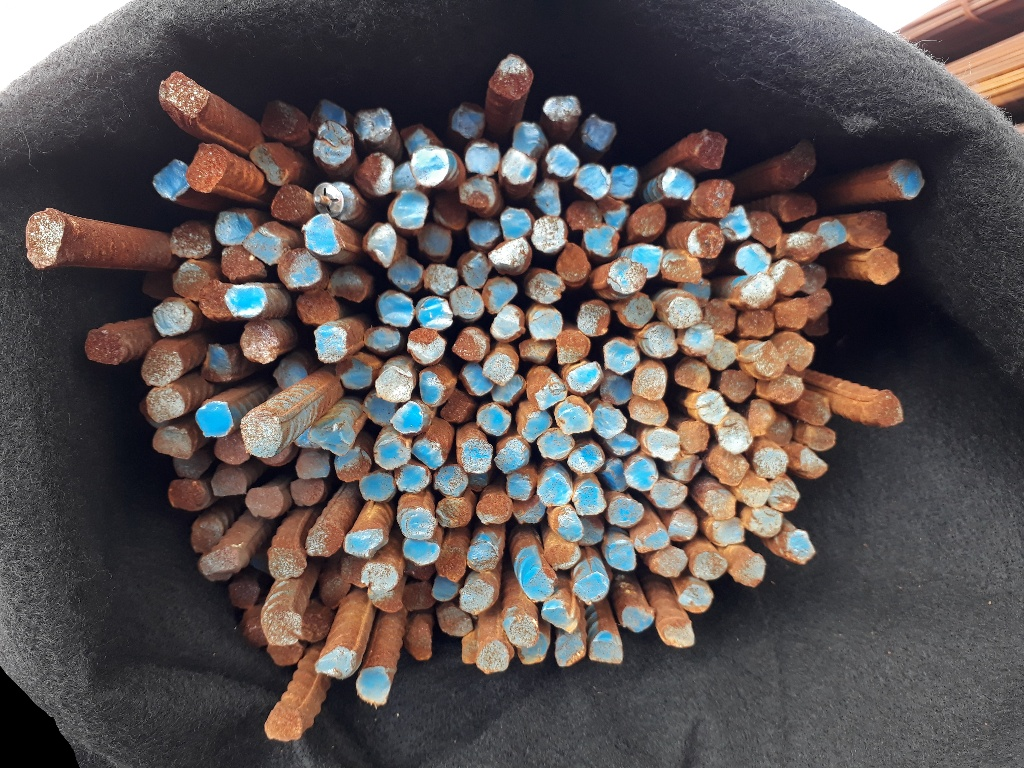dipstick: (23, 211, 65, 269), (259, 100, 310, 145), (166, 72, 209, 125), (486, 54, 533, 101), (312, 119, 355, 168), (187, 142, 228, 193), (249, 142, 294, 187), (351, 152, 395, 197), (703, 445, 750, 486), (278, 248, 323, 290), (240, 413, 282, 458), (888, 154, 927, 199), (327, 264, 369, 305), (778, 142, 818, 185), (389, 188, 429, 231), (310, 418, 355, 455), (408, 147, 451, 185), (173, 258, 211, 301), (169, 221, 212, 259), (200, 544, 244, 581), (142, 347, 181, 388), (84, 328, 125, 367), (489, 238, 532, 275), (243, 228, 286, 265), (363, 223, 397, 269), (302, 216, 342, 255), (240, 322, 278, 363), (390, 161, 432, 198), (848, 212, 891, 248), (375, 364, 414, 403), (431, 192, 471, 230), (221, 245, 261, 283), (606, 259, 648, 295), (312, 320, 347, 363), (294, 292, 341, 324), (307, 98, 346, 136), (418, 370, 458, 407), (320, 180, 357, 220), (264, 706, 304, 743), (153, 299, 193, 336), (260, 609, 301, 645), (226, 283, 267, 319), (150, 426, 194, 459), (555, 244, 592, 283), (458, 176, 497, 213), (487, 305, 526, 342), (524, 267, 564, 303), (614, 295, 656, 329), (500, 148, 538, 185), (270, 186, 309, 222), (196, 402, 235, 438), (209, 465, 249, 500), (741, 504, 783, 537), (299, 601, 331, 644), (530, 217, 567, 254), (481, 276, 518, 313), (452, 326, 489, 363), (867, 389, 903, 427), (739, 273, 777, 309), (408, 329, 446, 365), (377, 291, 415, 327), (779, 332, 814, 371), (463, 142, 502, 177), (356, 667, 391, 706), (304, 523, 343, 558), (145, 386, 184, 421), (343, 528, 387, 559), (631, 359, 665, 399), (693, 129, 726, 170), (552, 401, 593, 434), (315, 647, 357, 679), (734, 242, 771, 278), (355, 110, 392, 146), (768, 260, 806, 295), (697, 182, 735, 217), (731, 472, 770, 506), (201, 279, 235, 318), (735, 307, 776, 339), (169, 479, 211, 510), (602, 339, 638, 375), (703, 335, 738, 372), (415, 223, 452, 258), (540, 599, 578, 633), (334, 448, 372, 482), (200, 343, 233, 382), (240, 606, 272, 646), (647, 545, 688, 576), (548, 506, 583, 542), (449, 286, 485, 321), (716, 419, 753, 453), (386, 258, 423, 292), (439, 389, 476, 423), (768, 475, 801, 513), (686, 224, 724, 257), (213, 431, 251, 464), (244, 484, 283, 516), (775, 194, 818, 223), (165, 161, 196, 201), (406, 618, 434, 662), (459, 362, 494, 397), (643, 324, 679, 358), (502, 614, 538, 648), (575, 166, 611, 200), (417, 297, 453, 331), (362, 390, 396, 426), (316, 572, 350, 608), (658, 617, 695, 650), (422, 262, 459, 295), (494, 442, 532, 474), (437, 606, 475, 638), (335, 357, 373, 389), (717, 206, 752, 240), (189, 517, 224, 551), (750, 344, 786, 377), (786, 230, 822, 263), (580, 115, 616, 148), (484, 350, 517, 386), (476, 402, 512, 435), (458, 581, 494, 614), (374, 437, 410, 470), (583, 225, 620, 257), (437, 544, 469, 581), (358, 471, 395, 503), (675, 582, 713, 613), (628, 396, 670, 424), (774, 297, 808, 331), (625, 458, 659, 492), (572, 481, 606, 515), (477, 493, 511, 527), (460, 439, 493, 474), (389, 401, 424, 434), (747, 214, 783, 246), (567, 362, 603, 394), (451, 106, 487, 138), (394, 461, 430, 493), (719, 370, 756, 401), (459, 252, 490, 289), (269, 548, 306, 579), (752, 449, 790, 479), (673, 362, 711, 392), (627, 206, 665, 236), (537, 430, 575, 460), (361, 562, 399, 592), (867, 248, 901, 281), (646, 428, 680, 461), (524, 568, 557, 602), (511, 122, 545, 155), (514, 632, 549, 664), (606, 164, 638, 199), (434, 465, 469, 497), (274, 357, 309, 389), (574, 305, 610, 336), (368, 582, 404, 613), (289, 477, 325, 508), (398, 509, 435, 539), (747, 399, 776, 437), (540, 95, 579, 123), (677, 420, 709, 454), (575, 573, 609, 605), (226, 576, 260, 608), (785, 530, 816, 565), (661, 169, 696, 200), (592, 407, 627, 438), (608, 498, 644, 528), (474, 643, 510, 673), (511, 495, 547, 525), (767, 374, 805, 402), (665, 511, 698, 543), (557, 332, 590, 364), (546, 145, 579, 177), (528, 307, 561, 339), (599, 374, 633, 405), (596, 457, 627, 491), (401, 580, 435, 611), (737, 554, 767, 589), (491, 376, 526, 406), (545, 542, 581, 571), (566, 202, 602, 231), (662, 254, 702, 280), (651, 481, 689, 508), (566, 445, 604, 472), (696, 393, 728, 425), (532, 183, 564, 215), (803, 422, 836, 453), (500, 205, 531, 238), (411, 438, 444, 469), (466, 543, 500, 573), (295, 451, 329, 481), (532, 381, 567, 410), (365, 326, 400, 355), (813, 219, 849, 247), (691, 550, 727, 578), (588, 636, 624, 664), (435, 500, 471, 528), (665, 454, 702, 481), (664, 298, 701, 325), (703, 299, 734, 331), (606, 540, 638, 571), (340, 555, 371, 587), (711, 517, 744, 547), (401, 127, 434, 157), (402, 538, 440, 564), (537, 478, 571, 507), (171, 451, 210, 476), (555, 635, 586, 666), (630, 245, 662, 275), (267, 641, 305, 666), (798, 449, 829, 479), (226, 211, 253, 245), (467, 220, 502, 246), (622, 605, 654, 633), (576, 514, 604, 546), (518, 338, 553, 363), (602, 433, 640, 456), (523, 412, 553, 441), (804, 394, 832, 425), (634, 530, 670, 553), (602, 195, 626, 229), (505, 473, 533, 502), (705, 492, 735, 519), (431, 575, 461, 602), (804, 290, 830, 319), (801, 264, 827, 292), (679, 279, 711, 301), (765, 422, 789, 444)
